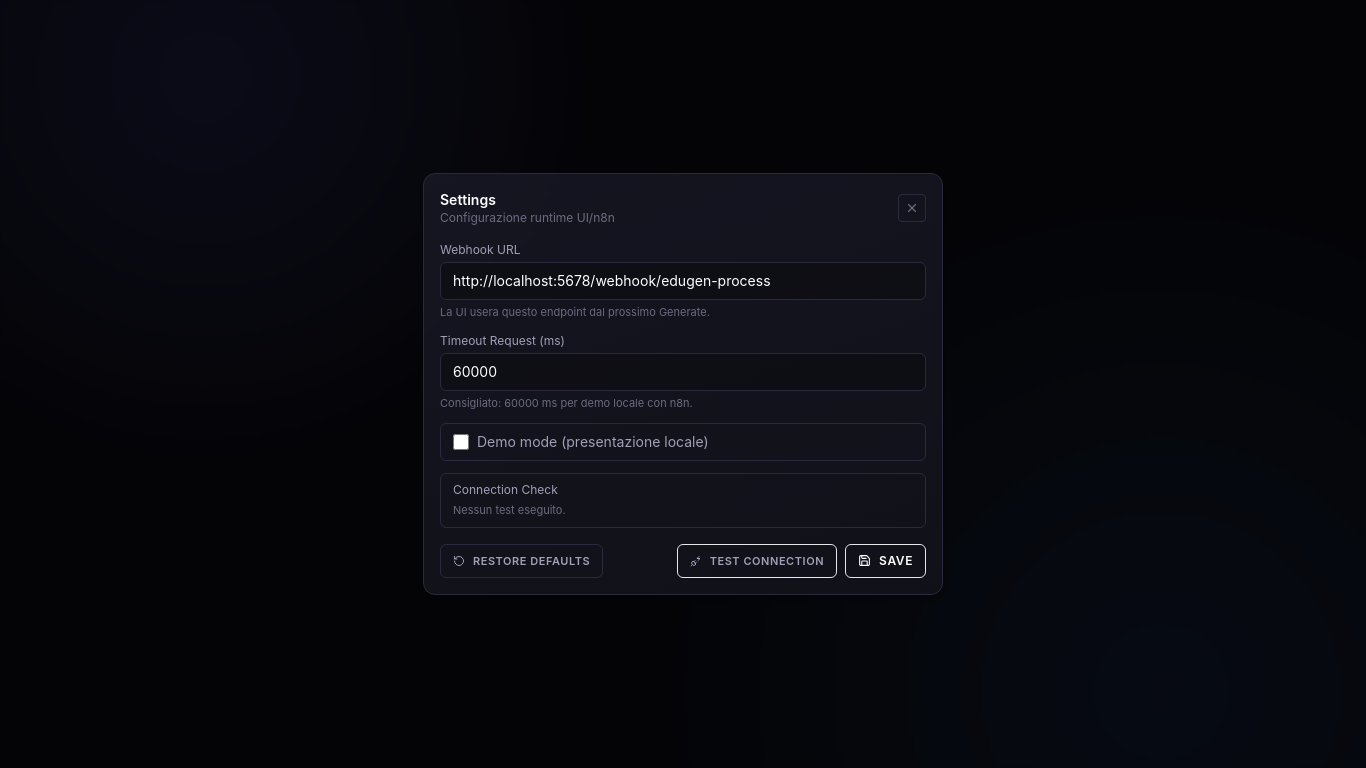
it: SettingsModal › shows connection success without mutating saved settings
The width and height of the screenshot is (1366, 768).
Click the button "TEST CONNECTION".
click(757, 561)  # box [677,544,837,578]
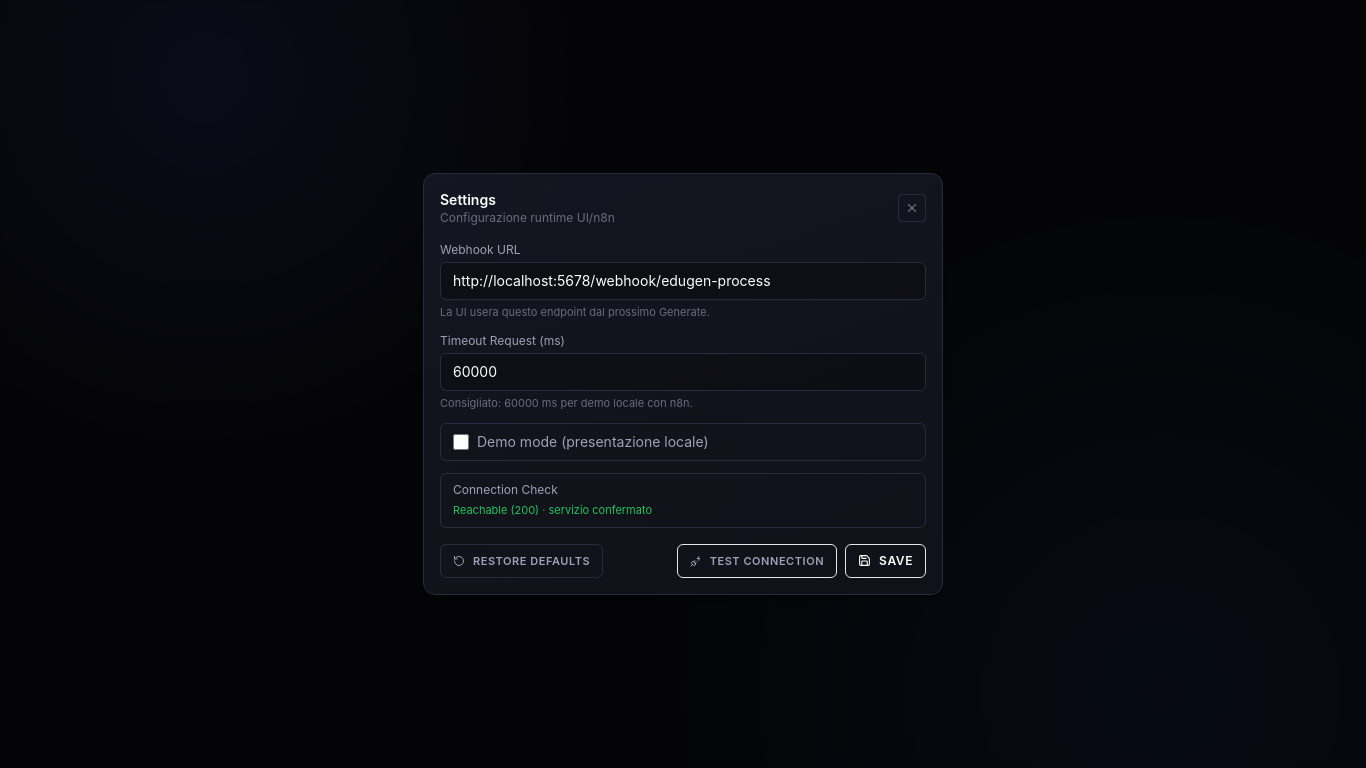
Check: the text "Reachable (200) · servizio confermato" is shown, box [453,503,652,517]
